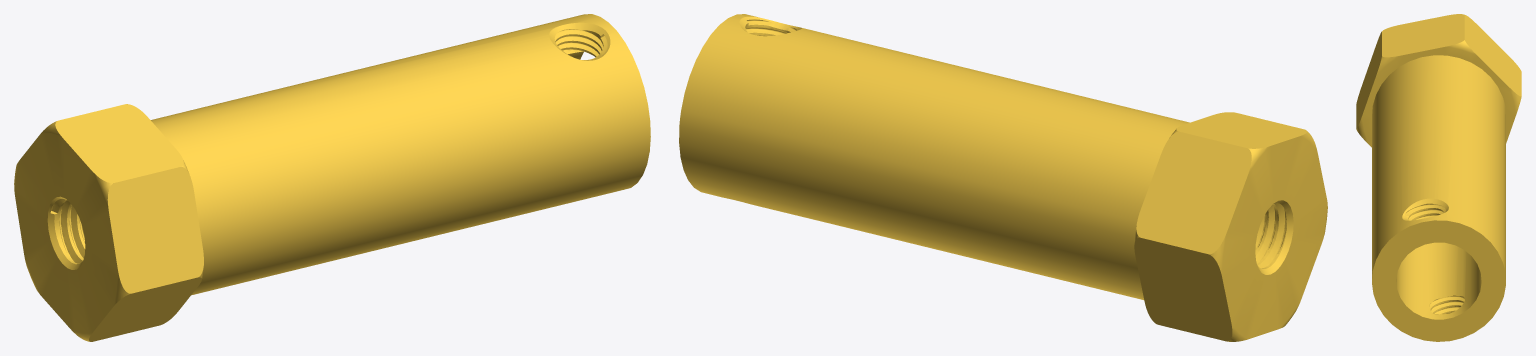
File: motor_hub_2_2.dae
3 renders of one model, left to right at view 1: azimuth 30°, elevation 25°; view 2: azimuth 150°, elevation 25°; view 3: azimuth 270°, elevation 25°, orthographic. The views are drawn at different scales.
Visible parts, largest first — view 1: node0; view 2: node0; view 3: node0.
Part boxes in pixels (left/top/right/bottom): node0: left=14, top=14, right=650, bottom=341; node0: left=679, top=14, right=1327, bottom=341; node0: left=1356, top=14, right=1521, bottom=341.
Size of the model in its own units: 0.038 by 0.0132 by 0.0135.
